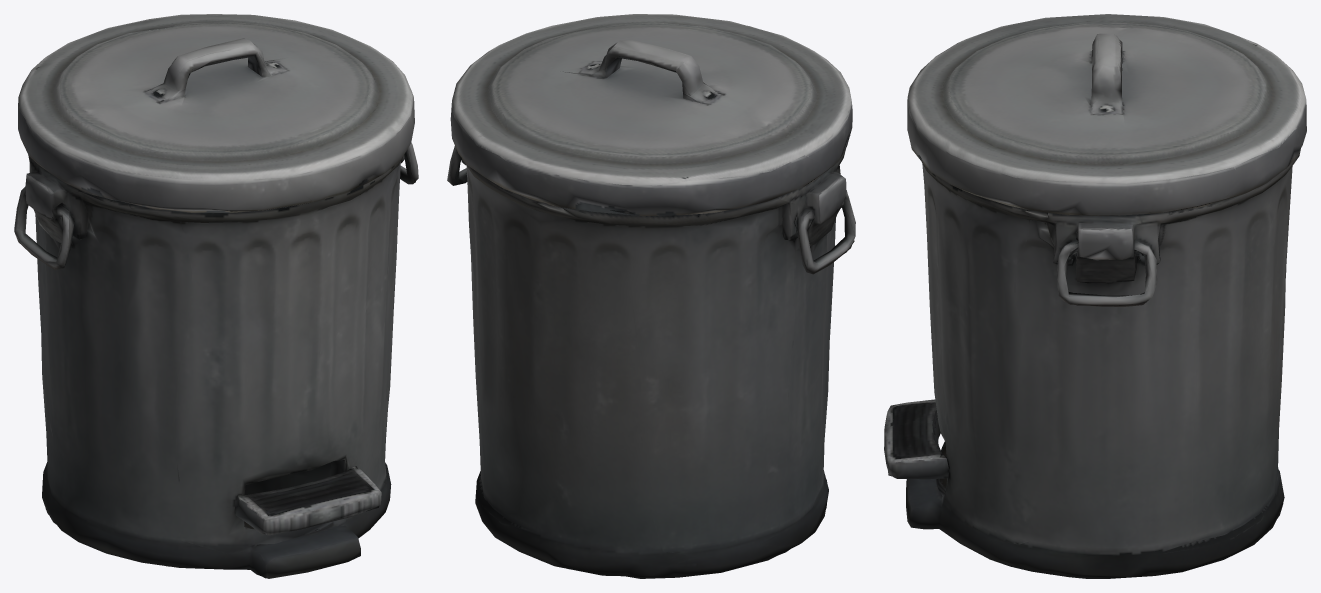
File: smalllectureroom_TrashCanSmall.glb
3 renders of one model, left to right at view 1: azimuth 30°, elevation 25°; view 2: azimuth 150°, elevation 25°; view 3: azimuth 270°, elevation 25°, orthographic.
Parts seen in each view (by area): view 1: world; view 2: world; view 3: world.
Part boxes in pixels (box(x1,y1,x2,y2)): world: box(14, 14, 418, 578); world: box(447, 14, 855, 578); world: box(884, 14, 1306, 578).
Bounding box in the file's own units: 0.843 × 1 × 0.837.
Materials: 1 (1 with a texture image).
